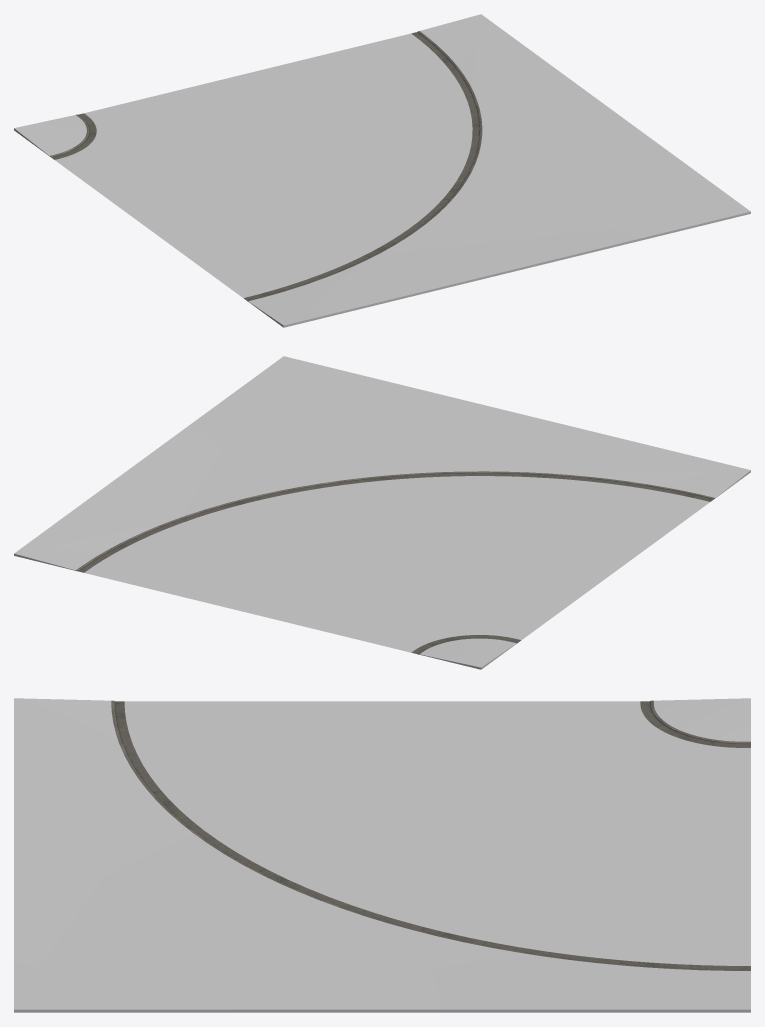
Rendered from jcRoadL22mA.fbx.
The picture shows the model from 3 angles, top to bottom: view 1: azimuth 30°, elevation 25°; view 2: azimuth 150°, elevation 25°; view 3: azimuth 270°, elevation 25°; orthographic projection. The views are drawn at different scales.
Parts seen in each view (by area): view 1: jcRoadL22mA; view 2: jcRoadL22mA; view 3: jcRoadL22mA.
Boxes of the visible parts, x1=… form: jcRoadL22mA: x1=14, y1=14, x2=750, y2=327; jcRoadL22mA: x1=14, y1=356, x2=750, y2=669; jcRoadL22mA: x1=14, y1=698, x2=750, y2=1012.
Size of the model in its own units: 2200 by 10 by 2200.
